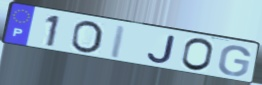1: (44, 15, 63, 49)
G: (216, 45, 252, 77)
I: (108, 23, 129, 60)
J: (146, 34, 178, 65)
O: (179, 37, 215, 73), (69, 19, 104, 55)
